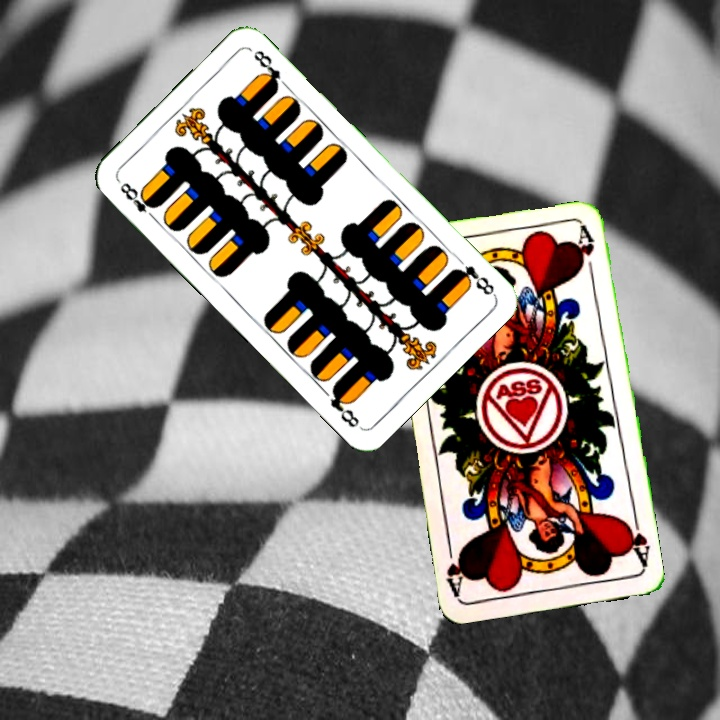E8: (116, 178, 160, 224), (448, 261, 497, 298)
HA: (620, 510, 652, 569)
